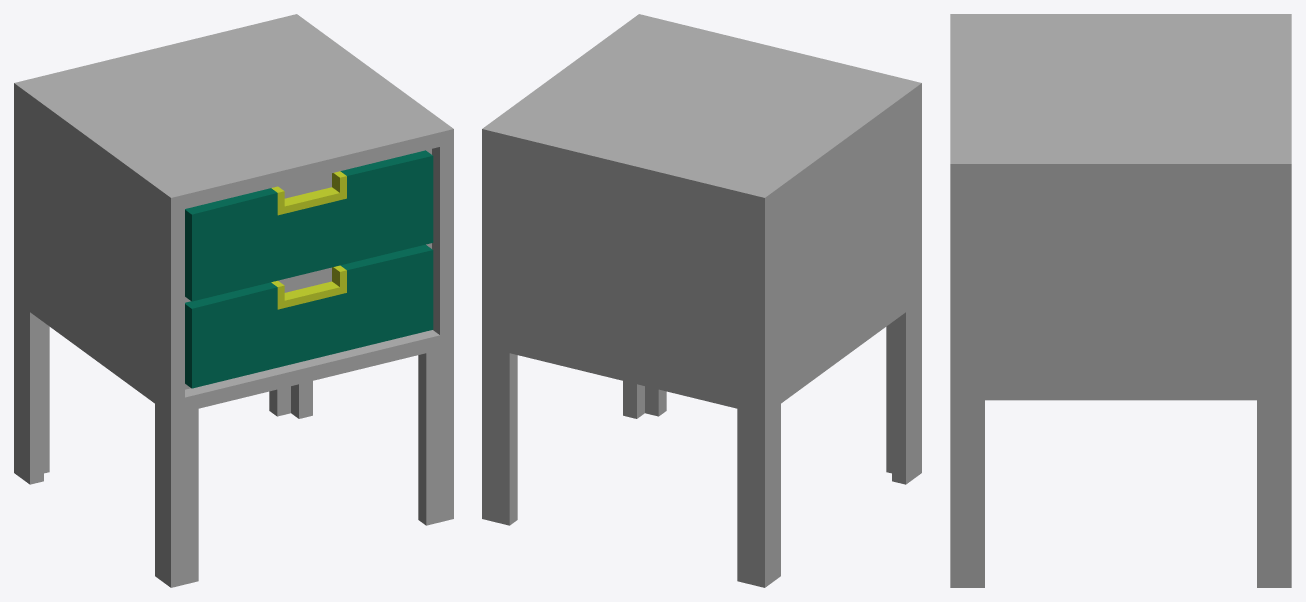
The model's file is Nightstand.fbx.
The picture shows the model from 3 angles, left to right: view 1: azimuth 30°, elevation 25°; view 2: azimuth 150°, elevation 25°; view 3: azimuth 270°, elevation 25°; orthographic projection. The views are drawn at different scales.
Visible parts, largest first — view 1: Nightstand; view 2: Nightstand; view 3: Nightstand.
Part boxes in pixels (bbox=[...]): Nightstand: bbox=[14, 14, 453, 587]; Nightstand: bbox=[482, 14, 921, 587]; Nightstand: bbox=[950, 14, 1291, 587].
Size of the model in its own units: 0.4991 by 0.6576 by 0.48.
